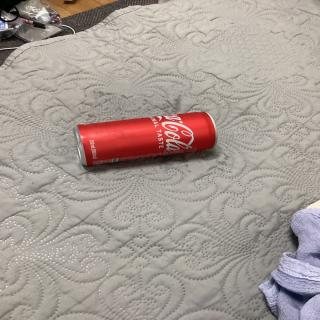cocacola: (68, 110, 224, 170)
